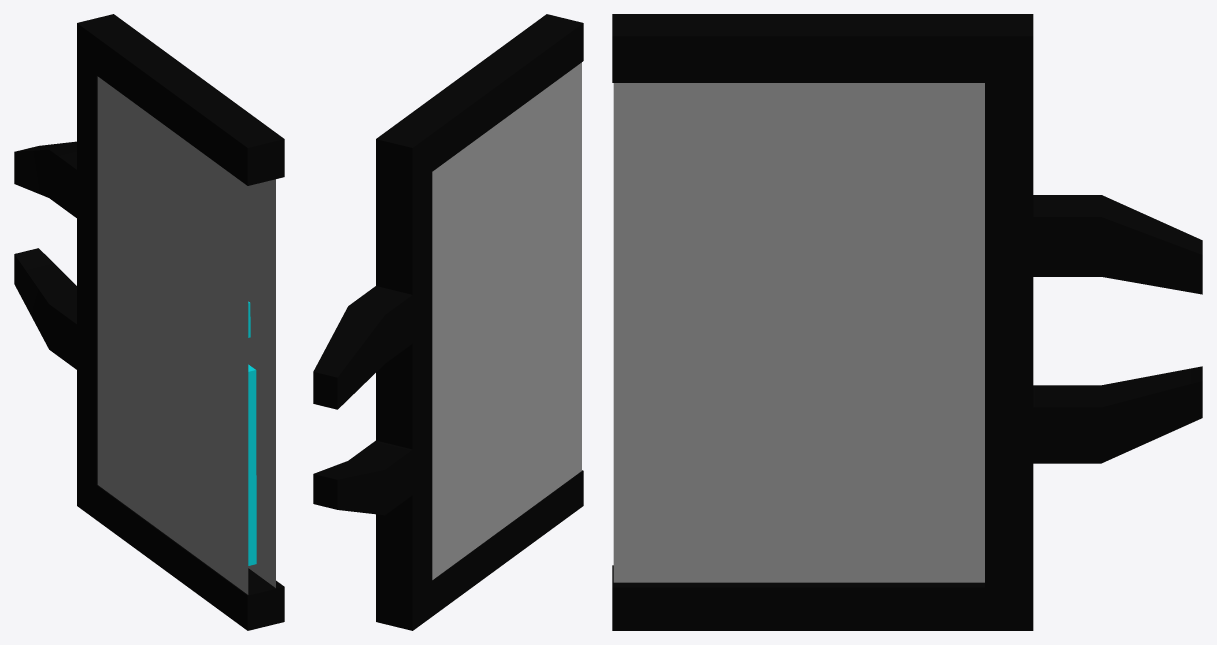
File: sign_dos.fbx
The picture shows the model from 3 angles, left to right: view 1: azimuth 30°, elevation 25°; view 2: azimuth 150°, elevation 25°; view 3: azimuth 270°, elevation 25°; orthographic projection. The views are drawn at different scales.
Visible parts, largest first — view 1: pCube146; view 2: pCube146; view 3: pCube146.
Part boxes in pixels (<box>): pCube146: <box>14,14,284,630</box>; pCube146: <box>313,14,583,630</box>; pCube146: <box>612,14,1202,630</box>.
Size of the model in its own units: 11.38 by 142 by 128.
